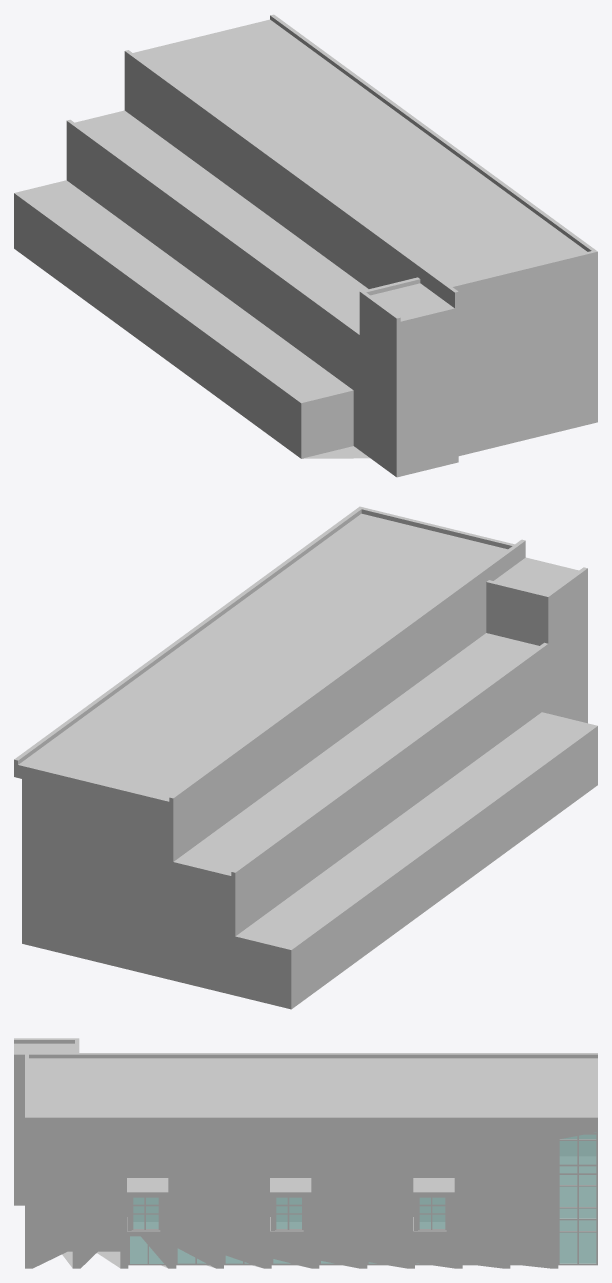
File: Lutgert_southSide.fbx
The picture shows the model from 3 angles, top to bottom: view 1: azimuth 30°, elevation 25°; view 2: azimuth 150°, elevation 25°; view 3: azimuth 270°, elevation 25°; orthographic projection. The views are drawn at different scales.
Parts seen in each view (by area): view 1: Model; view 2: Model; view 3: Model.
Part boxes in pixels (x1,y1,x2,y2): Model: [14, 14, 597, 477]; Model: [14, 506, 597, 1009]; Model: [14, 1038, 597, 1268].
Size of the model in its own units: 18.78 by 10.47 by 36.69.
